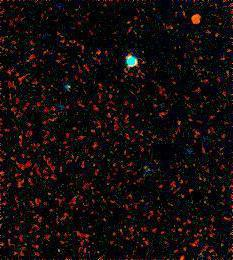star: (178, 4, 208, 34)
